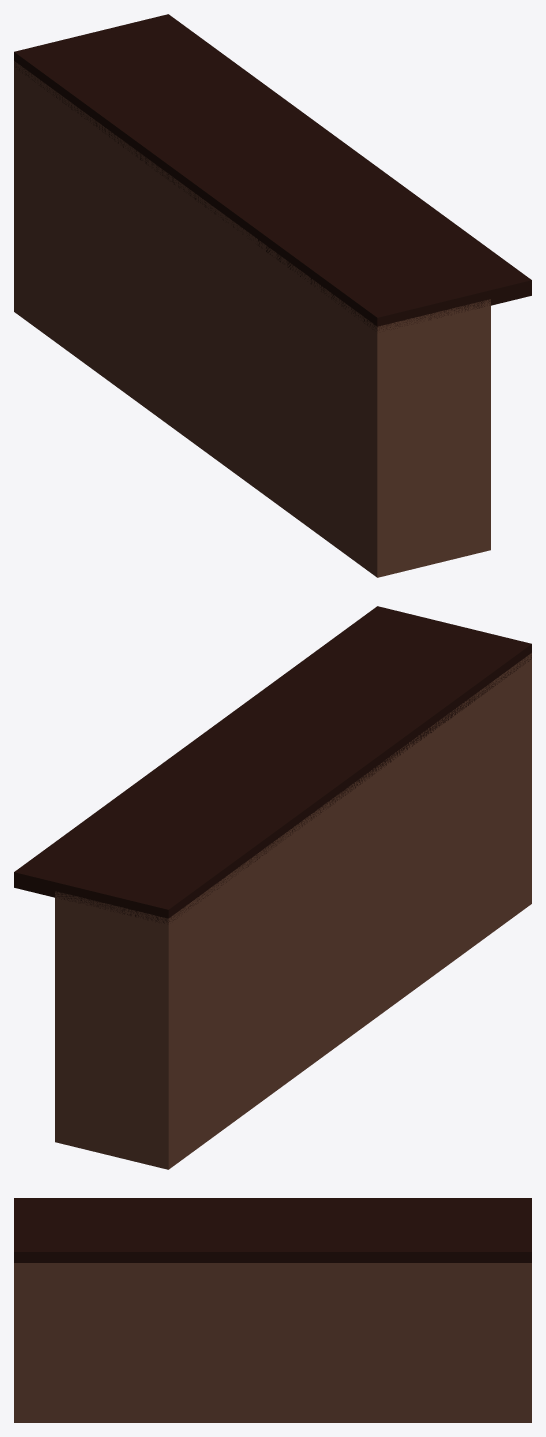
The model's file is ClerkTable.fbx.
3 renders of one model, top to bottom at view 1: azimuth 30°, elevation 25°; view 2: azimuth 150°, elevation 25°; view 3: azimuth 270°, elevation 25°, orthographic. The views are drawn at different scales.
Parts seen in each view (by area): view 1: ClerkTable; view 2: ClerkTable; view 3: ClerkTable.
Boxes of the visible parts, <box> form: ClerkTable: <box>14,14,531,577</box>; ClerkTable: <box>14,606,531,1169</box>; ClerkTable: <box>14,1198,531,1422</box>.
Size of the model in its own units: 70.76 by 114 by 288.
